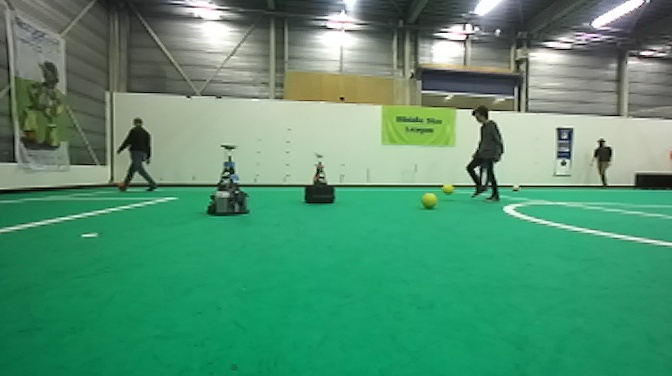ball: (420, 191, 437, 211), (441, 181, 456, 197), (510, 180, 520, 192), (114, 177, 123, 190)
human: (464, 104, 506, 208), (115, 115, 158, 193), (590, 138, 614, 189)
robot: (205, 143, 252, 217), (305, 154, 337, 205)
